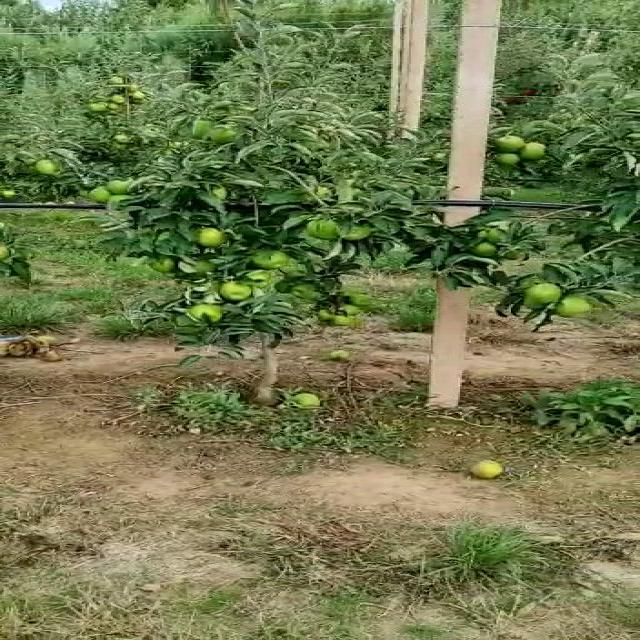100-_ripeness: (551, 295, 594, 321), (242, 252, 294, 271), (516, 283, 562, 304), (215, 277, 252, 302), (302, 221, 340, 243), (331, 222, 374, 240), (142, 255, 180, 273), (32, 157, 64, 177), (466, 243, 504, 257), (195, 303, 220, 324), (198, 229, 224, 249), (240, 267, 264, 288), (107, 181, 135, 197), (86, 188, 108, 202), (293, 284, 311, 295)
